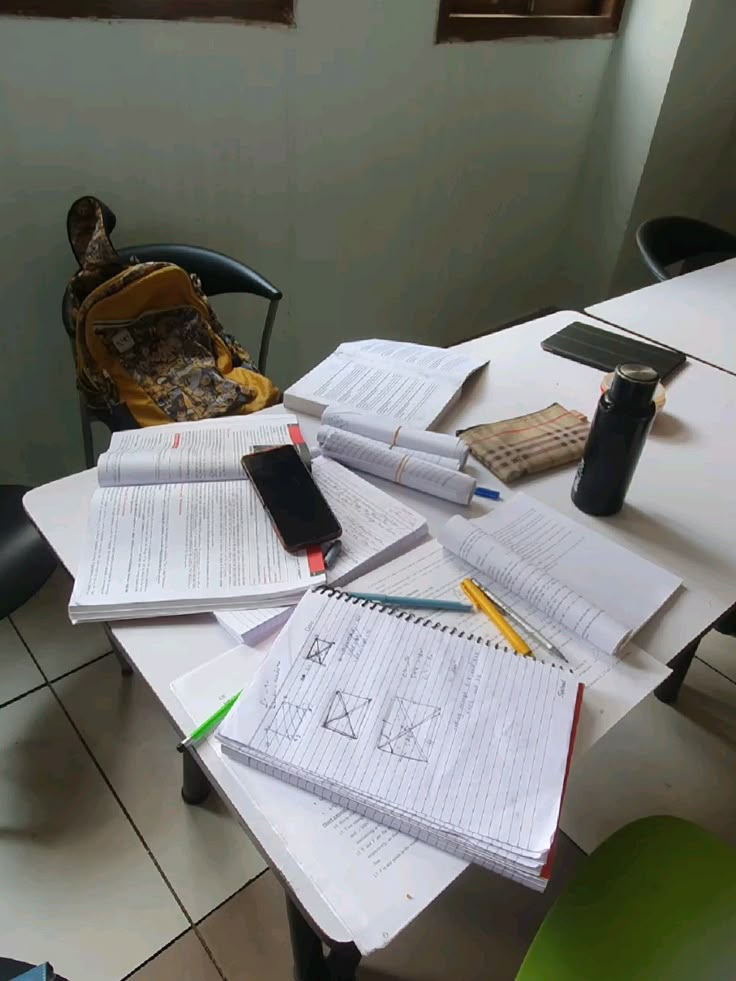not a gesture sign: (168, 525, 630, 931)
